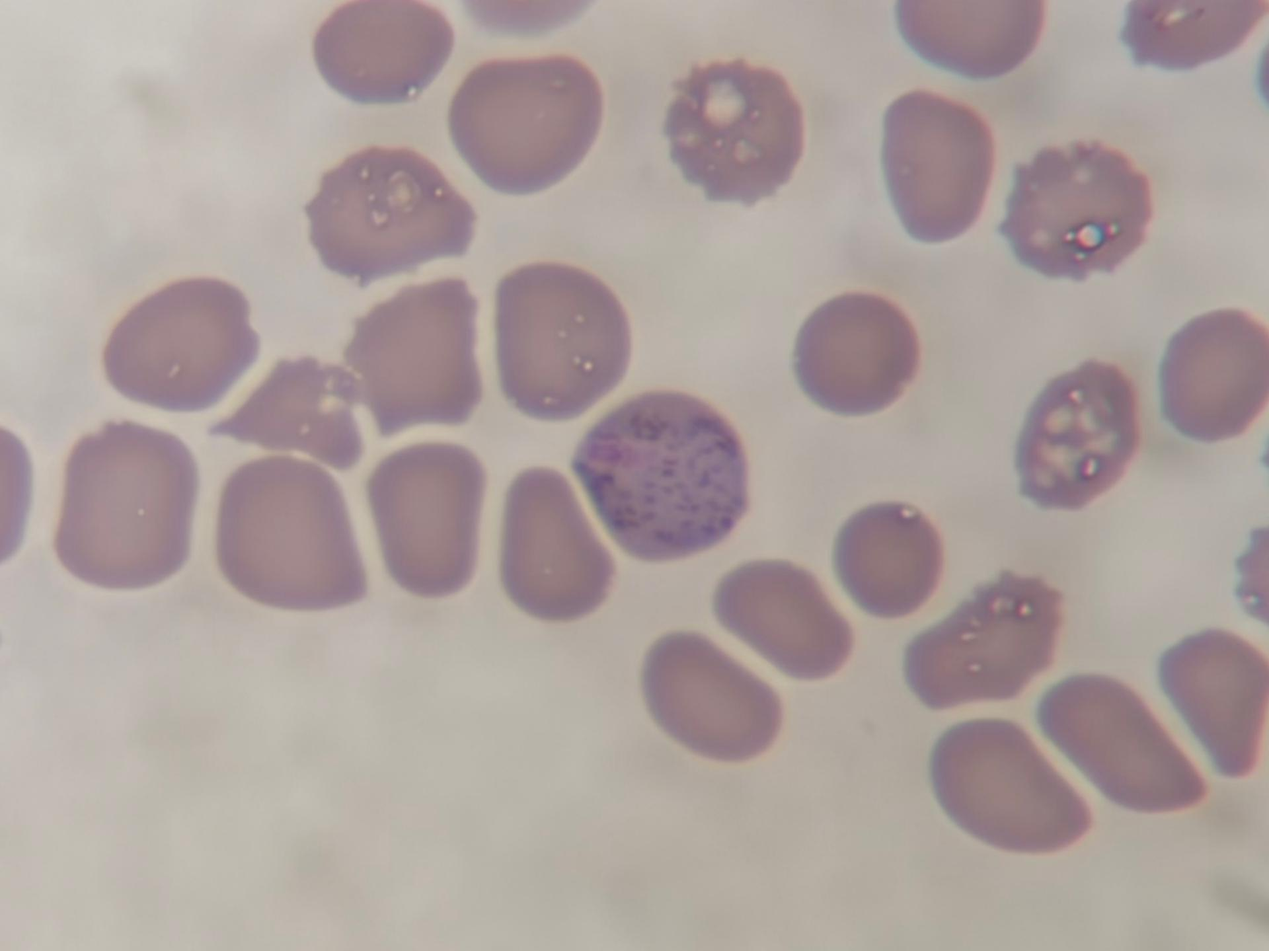Infected: (516, 389, 698, 561)
Uninfected: (1067, 357, 1215, 530), (901, 337, 1058, 498), (59, 136, 234, 280), (796, 666, 965, 806), (638, 524, 776, 690), (663, 757, 825, 895), (778, 519, 924, 672), (203, 237, 362, 377), (463, 741, 604, 890), (177, 99, 338, 229), (1013, 540, 1167, 673), (121, 668, 263, 810), (486, 187, 627, 321), (122, 437, 250, 584), (274, 709, 393, 862), (780, 356, 903, 504), (415, 270, 558, 393), (661, 327, 773, 483), (0, 174, 112, 325), (349, 533, 484, 658), (813, 845, 956, 951), (0, 504, 110, 641), (324, 326, 436, 447)
